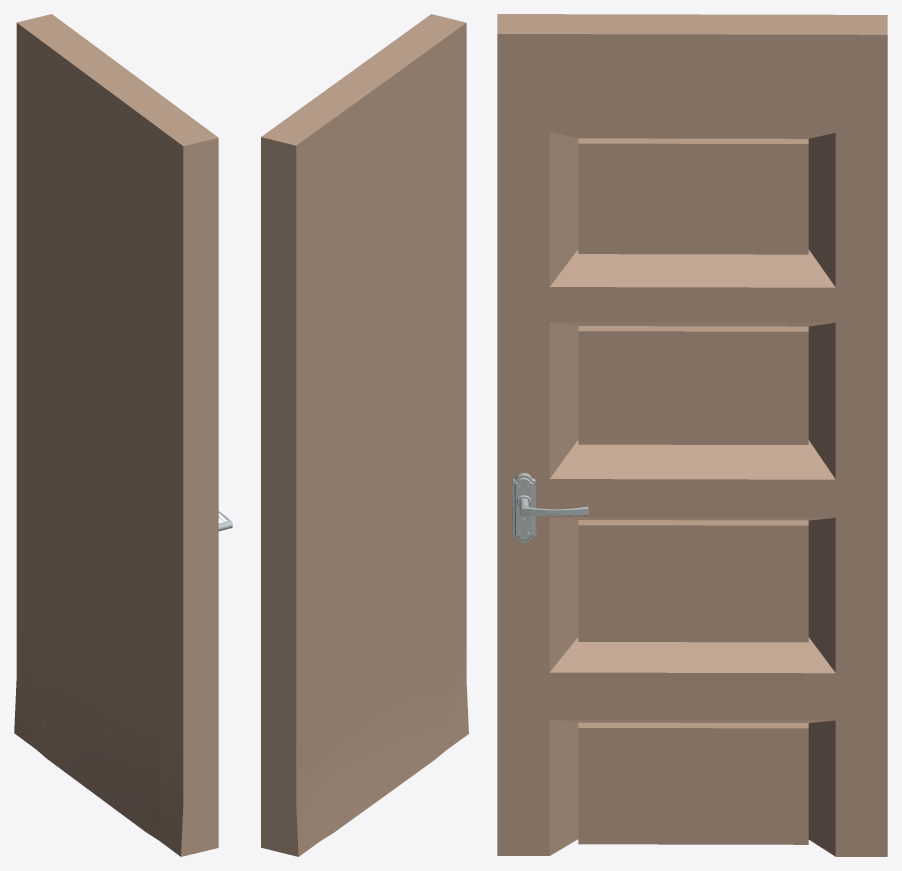
Rendered from door.gltf.
3 views of the same model, side by side, from view 1: azimuth 30°, elevation 25°; view 2: azimuth 150°, elevation 25°; view 3: azimuth 270°, elevation 25° (orthographic). The views are drawn at different scales.
Parts seen in each view (by area): view 1: Door; view 2: Door; view 3: Door, obj003.
Part boxes in pixels (left/top/right/bottom): Door: left=14, top=14, right=218, bottom=856; Door: left=261, top=14, right=468, bottom=856; Door: left=497, top=14, right=887, bottom=856; obj003: left=512, top=473, right=588, bottom=543.
Bounding box in the file's own units: 0.3826 × 4.04 × 1.74.
